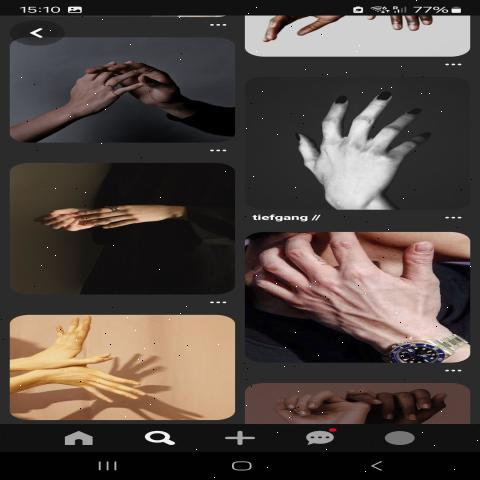Hands: (246, 234, 473, 352), (278, 82, 446, 205), (71, 196, 216, 260), (59, 50, 147, 126), (25, 318, 137, 366), (59, 364, 170, 408)
